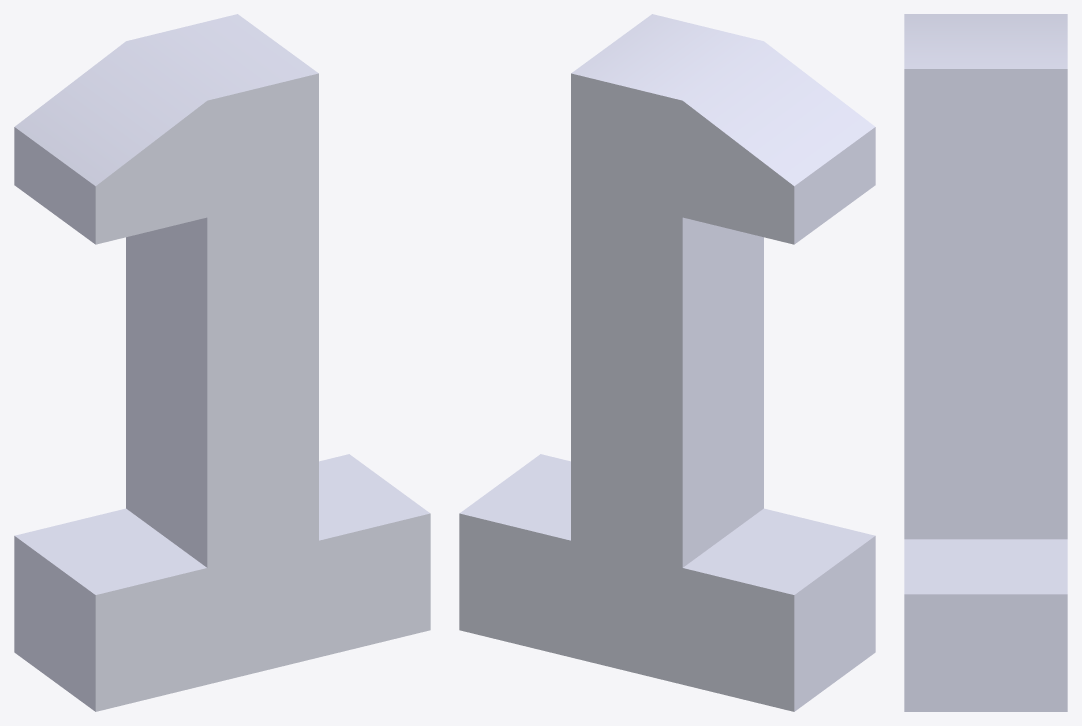
File: 657fcea4-1d09-4bf2-8104-7344c42f79ff.glb
3 renders of one model, left to right at view 1: azimuth 30°, elevation 25°; view 2: azimuth 150°, elevation 25°; view 3: azimuth 270°, elevation 25°, orthographic.
Visible parts, largest first — view 1: 1_DeltaBlock_Grey; view 2: 1_DeltaBlock_Grey; view 3: 1_DeltaBlock_Grey.
Boxes of the visible parts, box(x1,y1,x2,y2) form: 1_DeltaBlock_Grey: box(14, 14, 430, 711); 1_DeltaBlock_Grey: box(459, 14, 875, 711); 1_DeltaBlock_Grey: box(904, 14, 1067, 711).
Size of what is drawn, in the model's own units: 0.1071 by 0.1786 by 0.045.
Materials: 2 (2 with a texture image).
